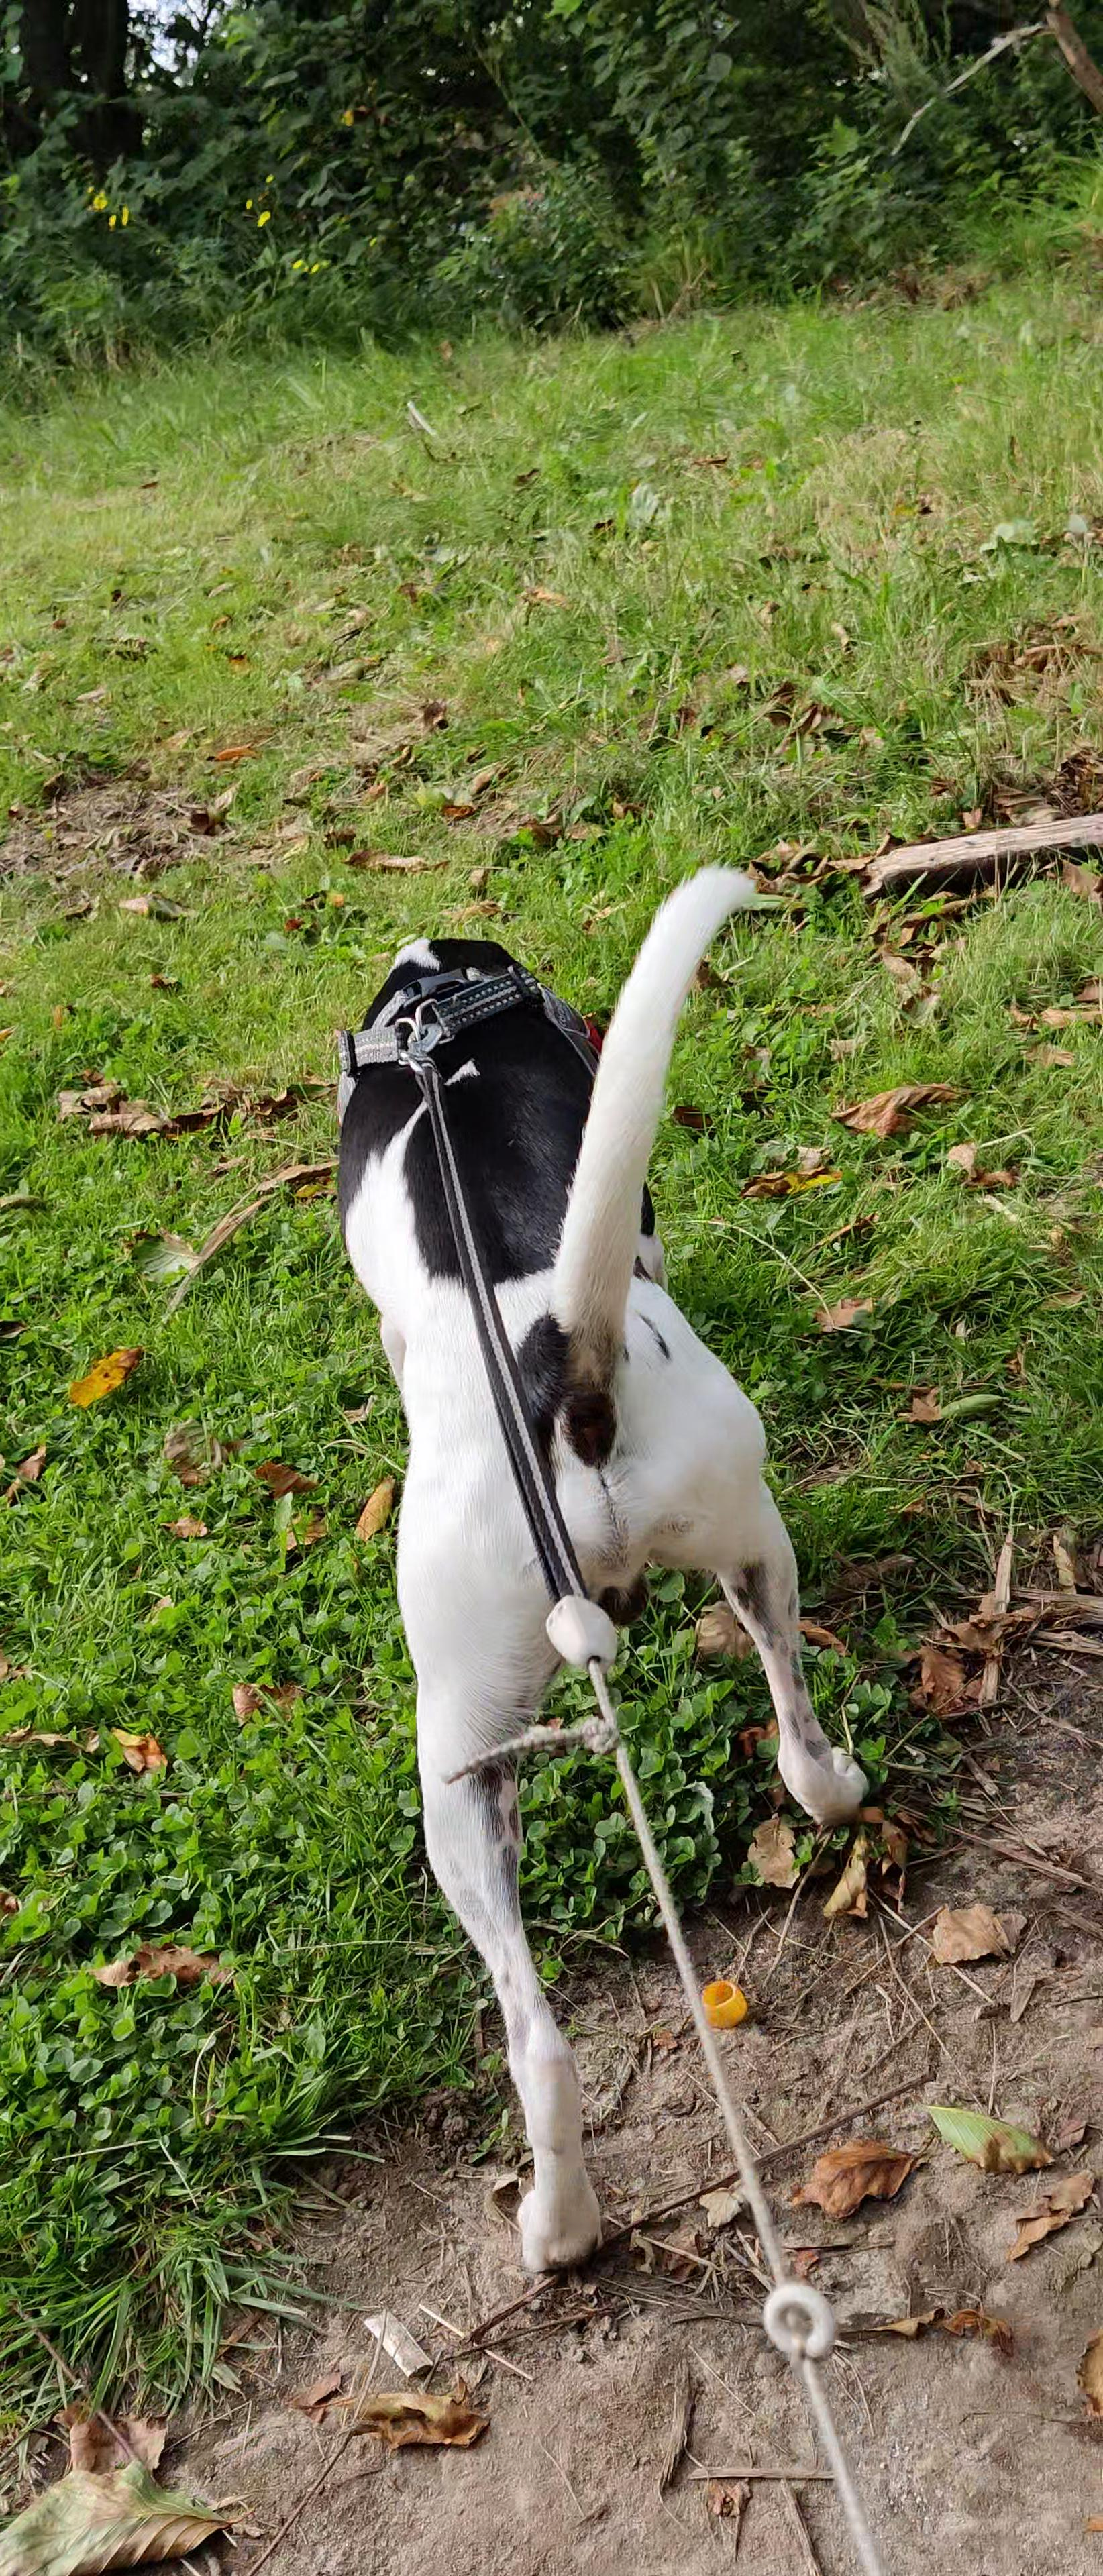Dog: (321, 851, 881, 2280)
